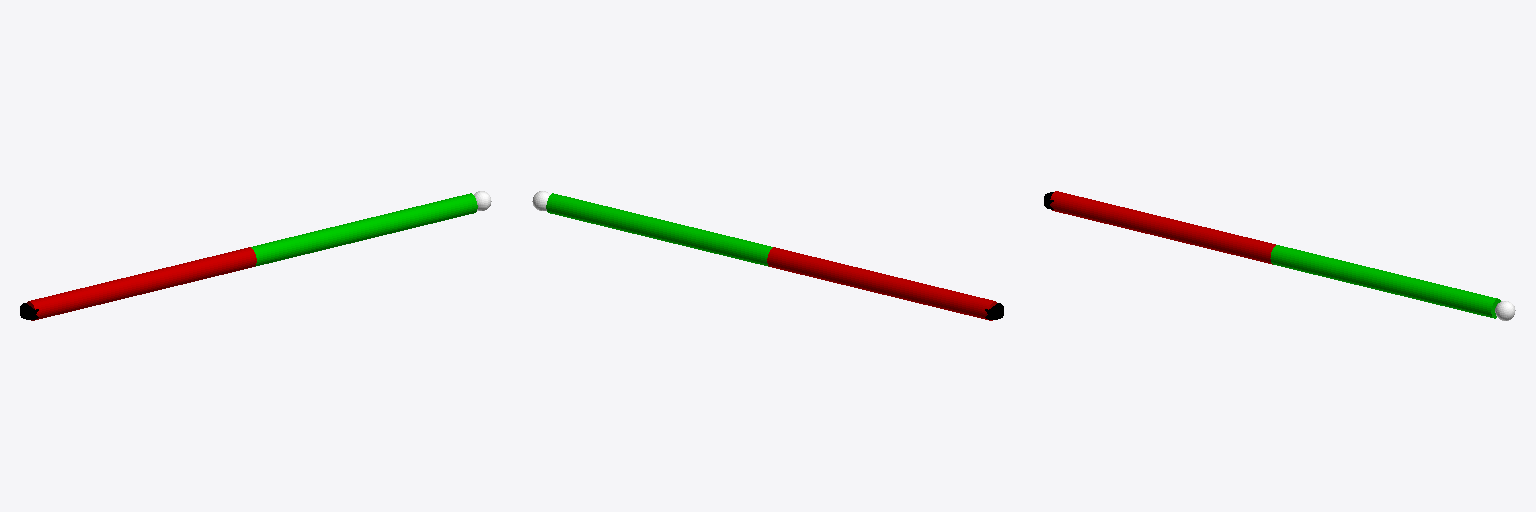
URDF robot description (2_link_planar):
<?xml version="1.0"?>
<robot name="2_link_planar">
  <link name="world"/>

  <joint name="base_joint" type="fixed">
    <origin rpy="0.0 0.0 0.0" xyz="0.0 0.0 0.0"/>
    <parent link="world"/>
    <child link="base_link"/>
  </joint>

  <link name="base_link">
<!--    <inertial>-->
<!--      <origin rpy="0 0 0" xyz="0.0 0.0 0.0"/>-->
<!--      <mass value="1"/>-->
<!--      <inertia ixx="0.05" ixy="0" ixz="0" iyy="0.018" iyz="0" izz="0.044"/>-->
<!--    </inertial>-->
    <visual>
      <geometry>
        <cylinder radius="0.01" length="0.01"/>
      </geometry>
      <material name="black">
        <color rgba="0 0 0 1"/>
      </material>
    </visual>
    <collision>
      <geometry>
        <cylinder radius="0.01" length="0.01"/>
      </geometry>
    </collision>
  </link>

  <joint name="joint_1" type="revolute">
    <axis xyz="0 0 1"/>
    <parent link="base_link"/>
    <child link="link_1"/>
    <origin xyz="0.0 0.0 0.0" rpy="0.0 0.0 0.0"/>
    <limit effort="320.0" lower="-2.9670597283903604" upper="2.9670597283903604" velocity="2.35619449019"/>
  </joint>

  <link name="link_1">
<!--    <inertial>-->
<!--      <origin rpy="0 0 0" xyz="0.25 0.0 0.0"/>-->
<!--      <mass value="1"/>-->
<!--      <inertia ixx="0.0008" ixy="0" ixz="0" iyy="0.0151" iyz="0" izz="0.0151"/>-->
<!--    </inertial>-->
    <visual>
      <origin rpy="0 1.57079632679 0" xyz="0.125 0.0 0.0"/>
      <geometry>
        <cylinder radius="0.01" length="0.25"/>
      </geometry>
      <material name="black">
        <color rgba="0.8 0 0 1"/>
      </material>
    </visual>
    <collision>
      <origin rpy="0 1.57079632679 0" xyz="0.125 0.0 0.0"/>
      <geometry>
        <cylinder radius="0.01" length="0.25"/>
      </geometry>
    </collision>
  </link>

  <joint name="joint_2" type="revolute">
    <axis xyz="0 0 1"/>
    <parent link="link_1"/>
    <child link="link_2"/>
    <origin xyz="0.25 0 0"/>
    <limit effort="320.0" lower="-2.0943951023931953" upper="2.0943951023931953" velocity="2.35619449019"/>
  </joint>

  <link name="link_2">
<!--    <inertial>-->
<!--      <origin rpy="0 0 0" xyz="0.2 0.0 0.0"/>-->
<!--      <mass value="1"/>-->
<!--      <inertia ixx="0.0008" ixy="0" ixz="0" iyy="0.0137" iyz="0" izz="0.0137"/>-->
<!--    </inertial>-->
    <visual>
      <origin rpy="0.0 1.57079632679 0" xyz="0.125 0.0 0.0"/>
      <geometry>
        <cylinder radius="0.01" length="0.25"/>
      </geometry>
      <material name="green">
        <color rgba="0 0.8 0.0 1"/>
      </material>
    </visual>
    <collision>
      <origin rpy="0.0 1.57079632679 0" xyz="0.125 0.0 0.0"/>
      <geometry>
        <cylinder radius="0.01" length="0.25"/>
      </geometry>
    </collision>
  </link>

  <joint name="joint_ee" type="fixed">
    <axis xyz="1 0 0"/>
    <parent link="link_2"/>
    <child link="link_ee"/>
    <origin xyz="0.25 0 0.0"/>
  </joint>


  <link name="link_ee">
    <visual>
      <origin rpy="0.0 1.57079632679 0" xyz="0.01 0.0 0.0"/>
      <geometry>
        <sphere radius="0.01"/>
      </geometry>
      <material name="white">
        <color rgba="1 1 1 1"/>
      </material>
    </visual>
    <collision>
      <origin rpy="0.0 1.57079632679 0" xyz="0.01 0.0 0.0"/>
      <geometry>
        <sphere radius="0.01"/>
      </geometry>
    </collision>
  </link>

</robot>

--- What the picture shows (computed from the rendered views, not written in the file) ---
3 views of the same robot in one strip: view 1: azimuth 30°, elevation 25°; view 2: azimuth 150°, elevation 25°; view 3: azimuth 330°, elevation 25° (orthographic).
Model 2_link_planar with 5 links and 4 joints (2 revolute, 2 fixed), rooted at world, posed every joint at zero.
Visible links, largest first — view 1: link_1, link_2; view 2: link_1, link_2; view 3: link_2, link_1.
Link boxes in pixels (x1=…): link_1: x1=27, y1=247, x2=256, y2=320; link_2: x1=251, y1=193, x2=477, y2=266; link_1: x1=767, y1=247, x2=996, y2=320; link_2: x1=546, y1=193, x2=772, y2=266; link_2: x1=1270, y1=245, x2=1500, y2=318; link_1: x1=1050, y1=191, x2=1275, y2=264.
Size in the robot's own frame: 0.53 by 0.02 by 0.02 metres.
Geometry: primitives only (box / cylinder / sphere), no mesh files.
